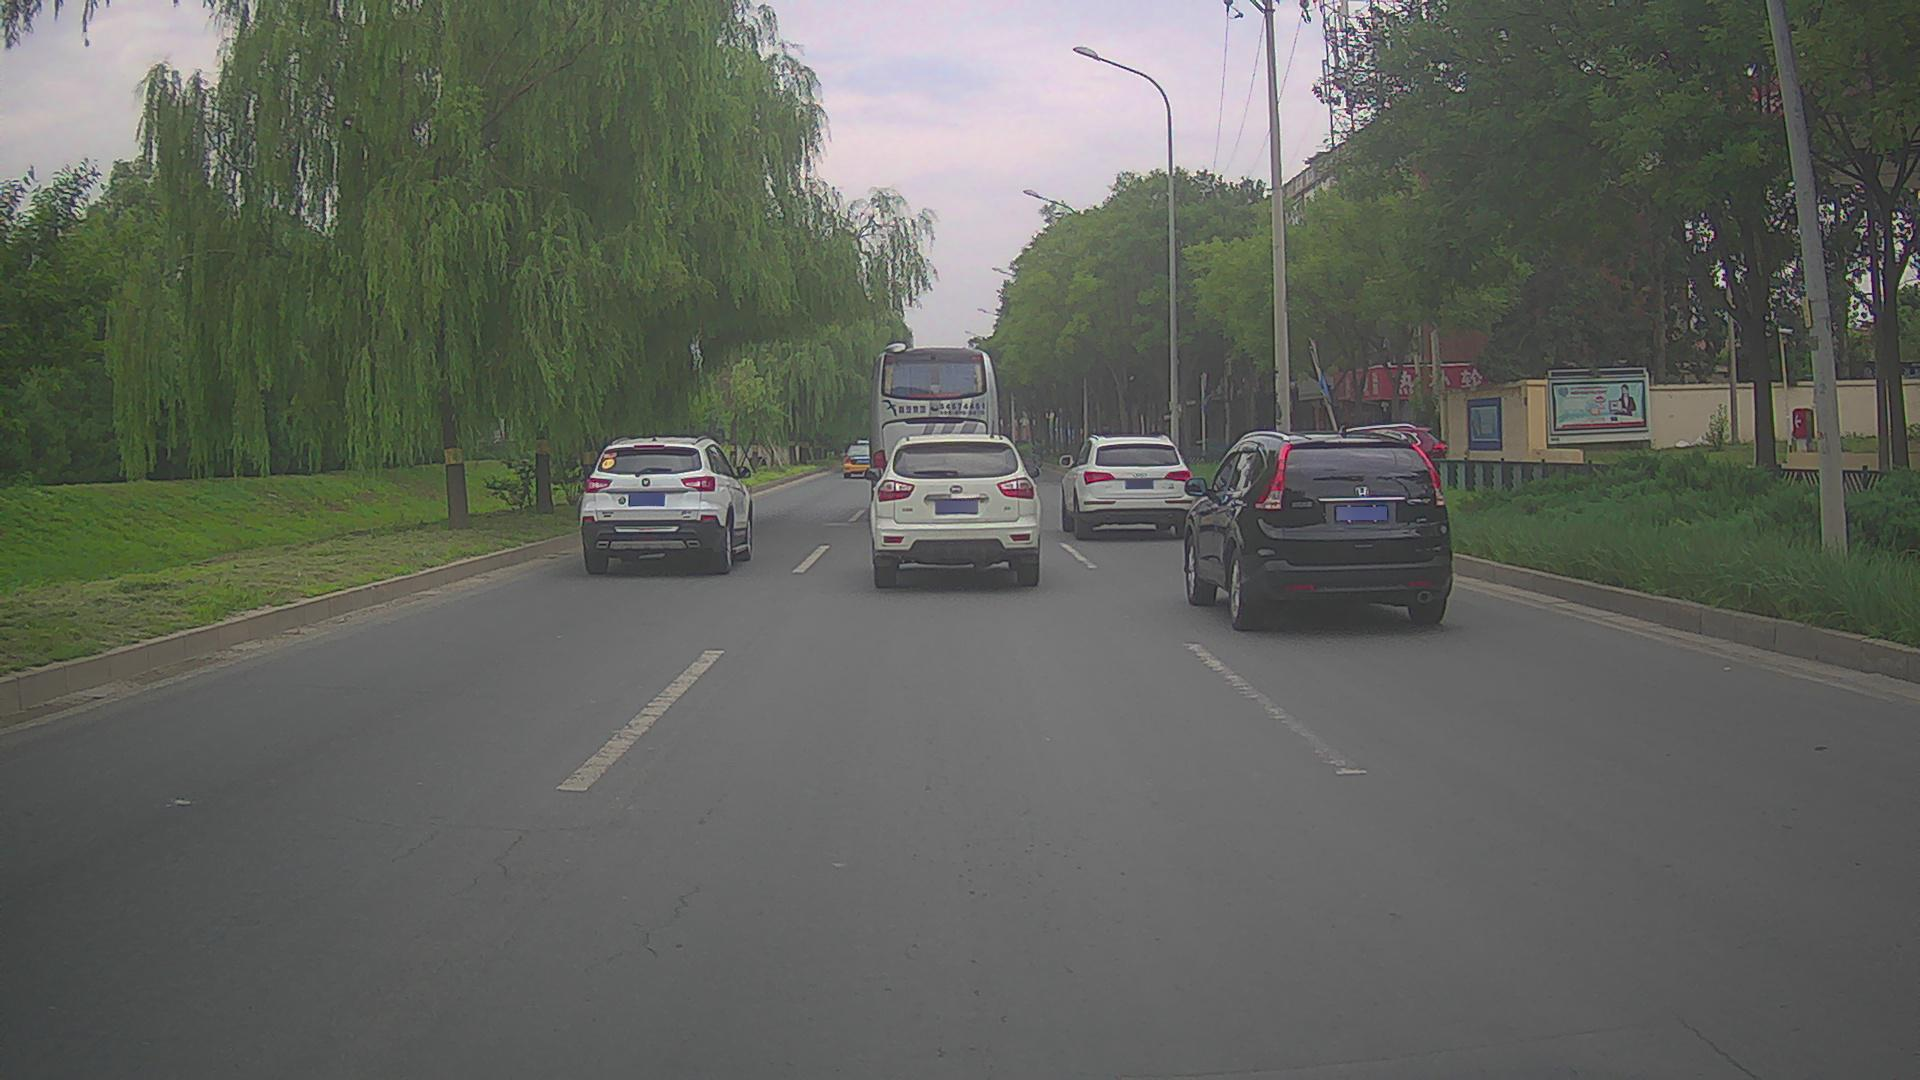bus: (868, 343, 1000, 510)
car: (1183, 430, 1452, 632), (864, 433, 1040, 588), (578, 434, 753, 575), (1058, 434, 1197, 541), (841, 436, 884, 479)
ignore: (1338, 422, 1448, 459)
